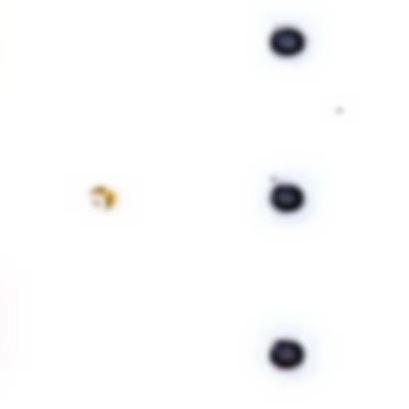cancer: (249, 160, 324, 227), (254, 323, 332, 383), (255, 13, 323, 69)
normal: (80, 175, 134, 226)
